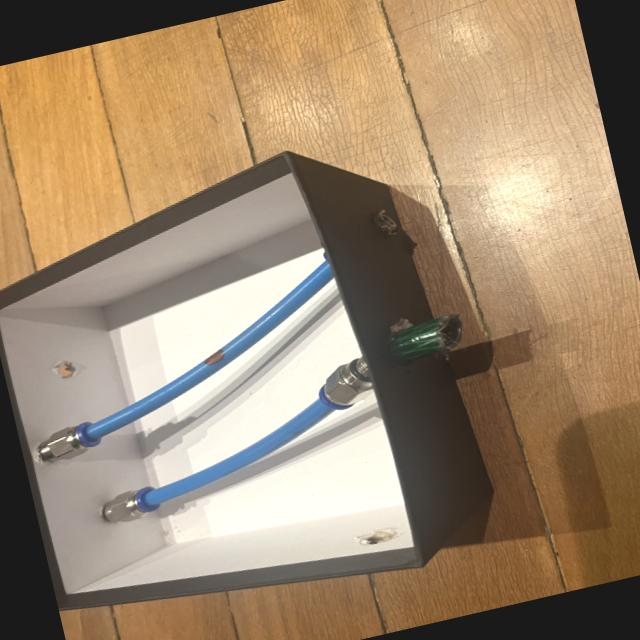hose_damage: (200, 345, 229, 369)
